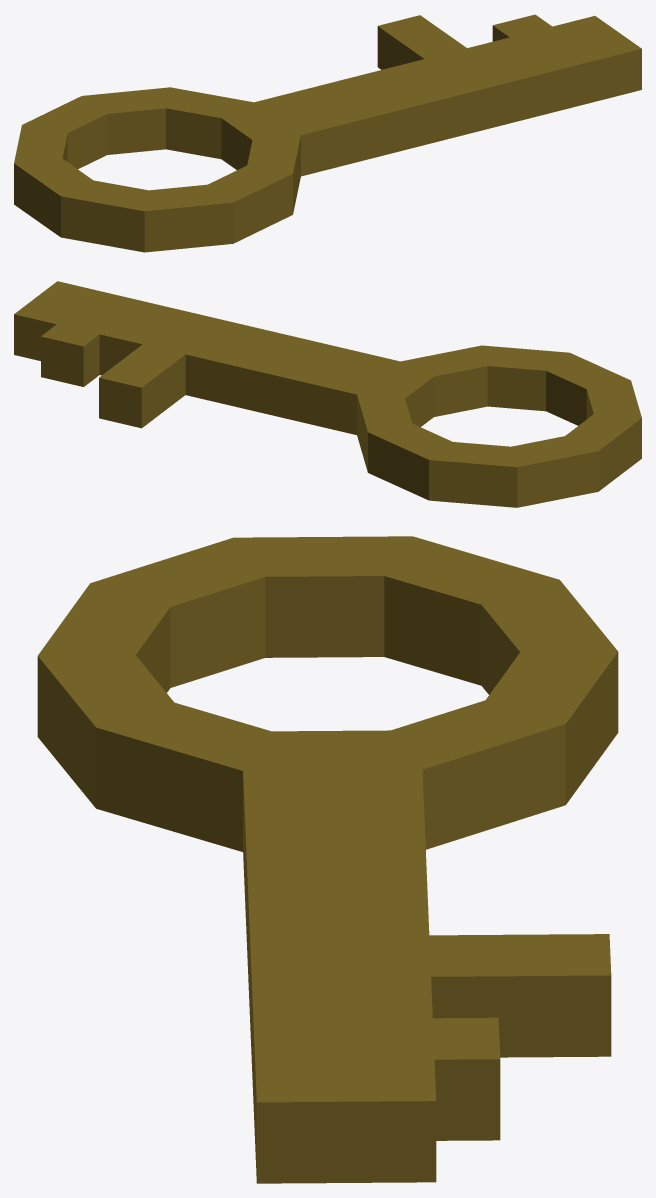
The model's file is key03.gltf.
3 views of the same model, one above another, from view 1: azimuth 30°, elevation 25°; view 2: azimuth 150°, elevation 25°; view 3: azimuth 270°, elevation 25° (orthographic). The views are drawn at different scales.
Visible parts, largest first — view 1: Cylinder; view 2: Cylinder; view 3: Cylinder.
Boxes of the visible parts, x1,y1,x2,y2 form: Cylinder: [14, 14, 641, 252]; Cylinder: [14, 281, 641, 507]; Cylinder: [37, 536, 618, 1183].
Bounding box in the file's own units: 0.1228 × 0.00822 × 0.0532.
1 material, 1 textured.
